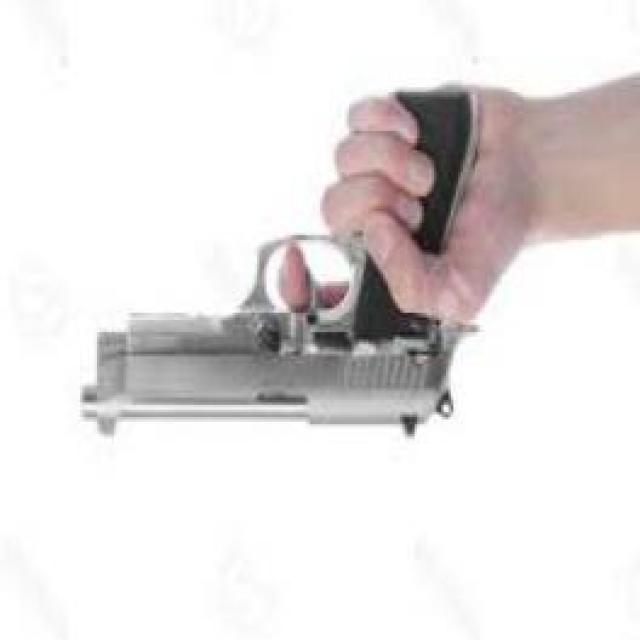pistol: (73, 69, 491, 456)
